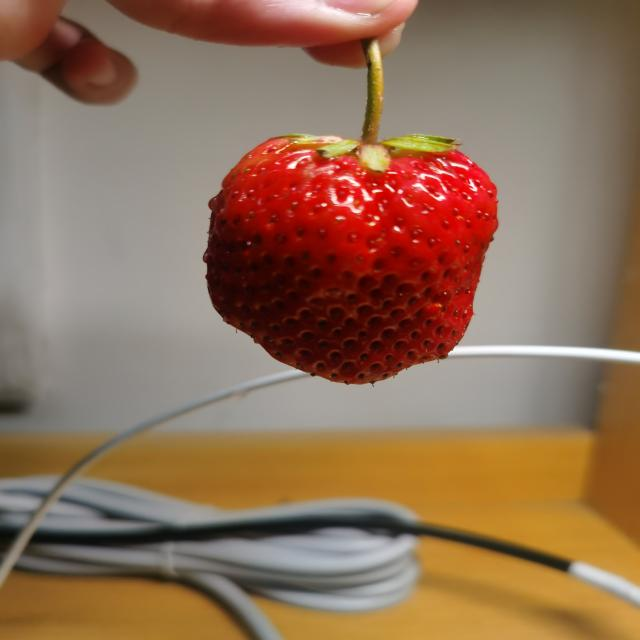stem: (360, 52, 383, 148)
strawberry: (206, 134, 499, 385)
